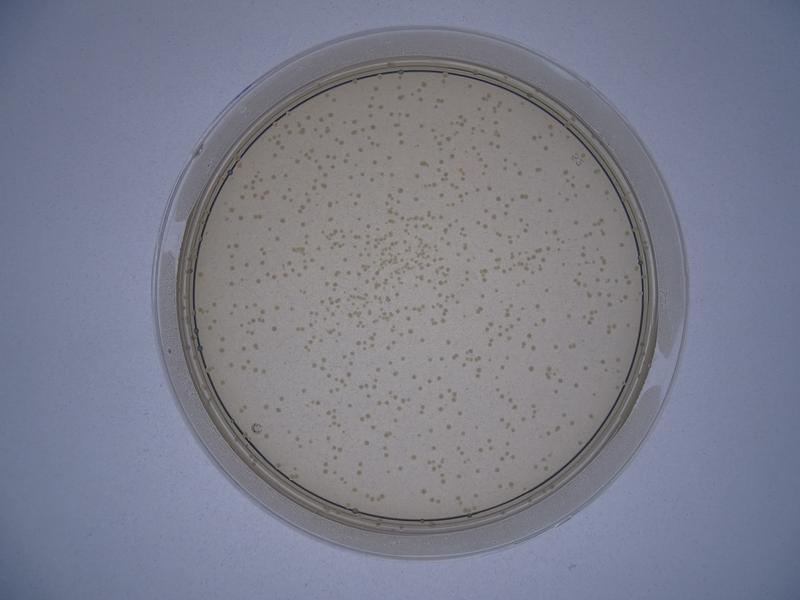colony: (278, 216, 289, 229), (416, 120, 427, 132), (395, 185, 406, 195), (226, 277, 235, 289), (443, 337, 453, 347), (541, 285, 551, 295), (276, 393, 287, 402), (442, 422, 454, 430), (536, 192, 543, 205), (409, 451, 418, 461), (270, 324, 278, 335), (317, 264, 326, 273), (587, 411, 594, 421), (541, 144, 549, 151)
